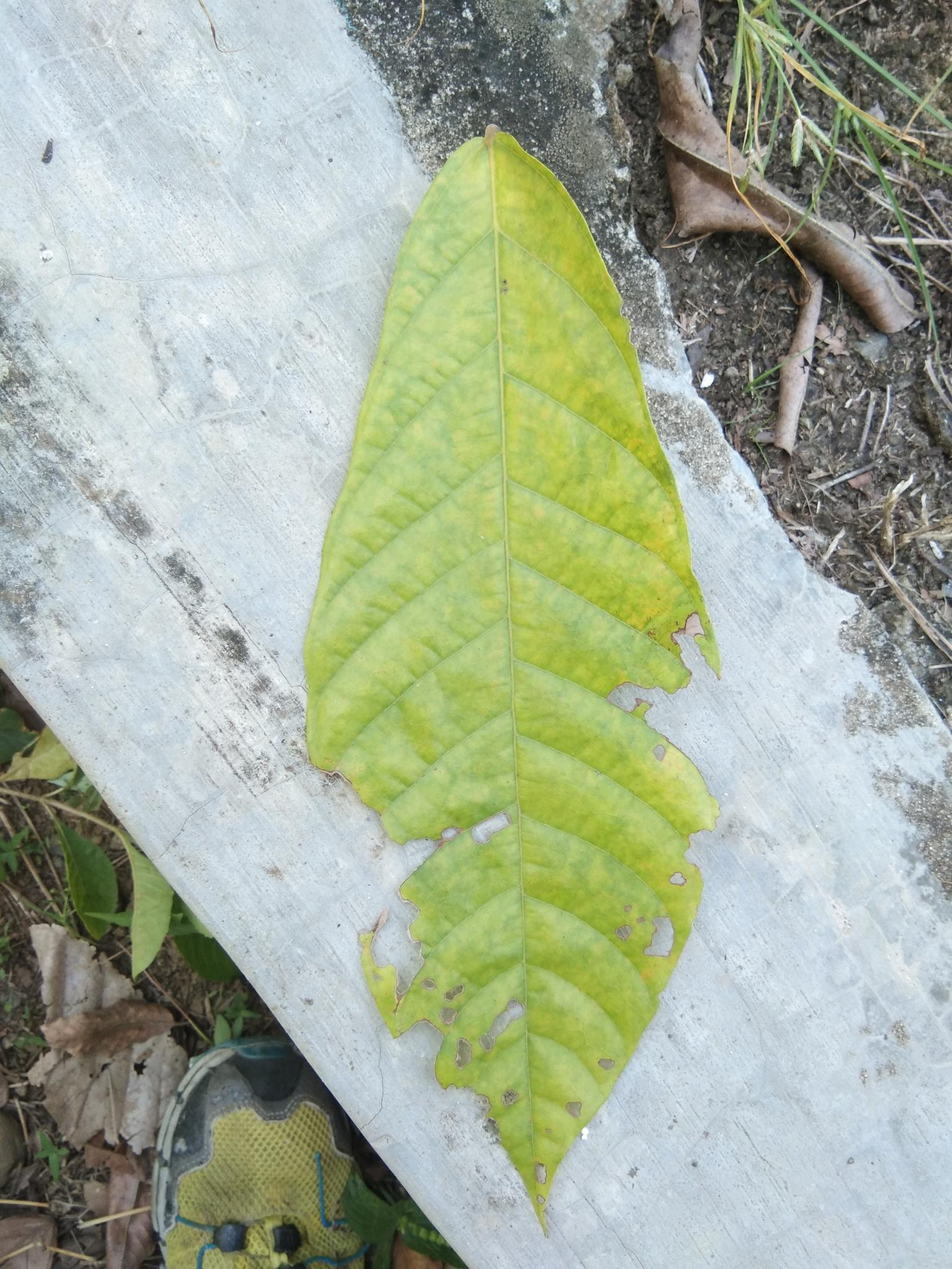Fosforo: (280, 138, 723, 1210)
